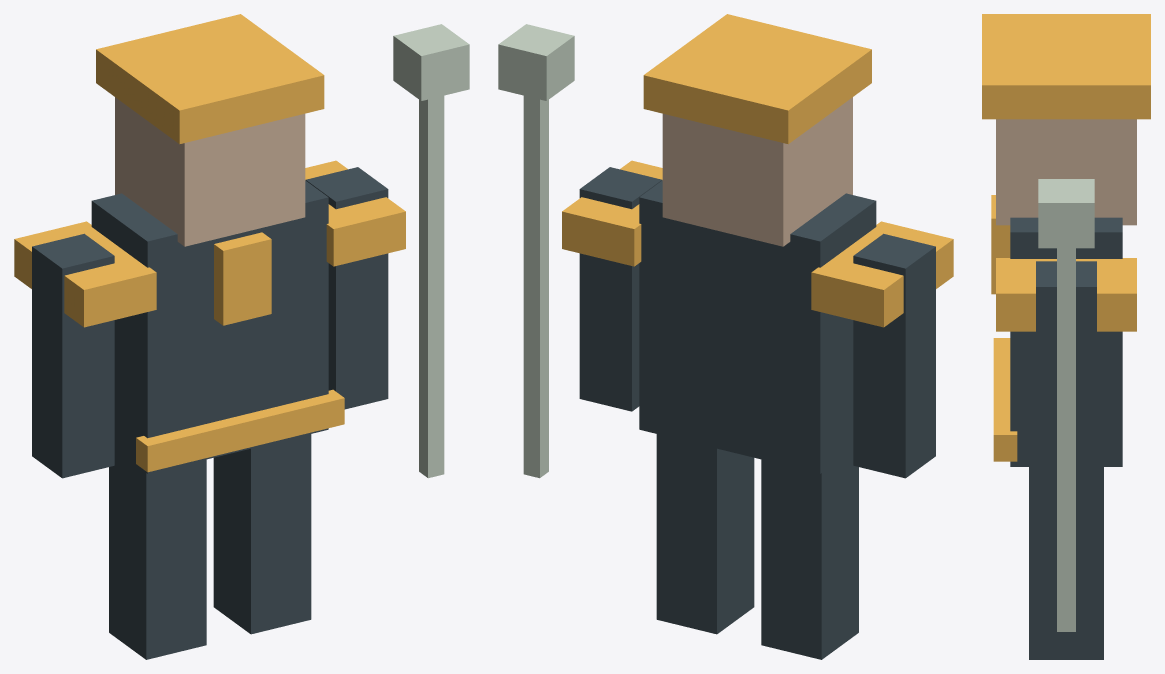
The model's file is 14_kael_holloway_ranger_near_observation.glb.
The picture shows the model from 3 angles, left to right: view 1: azimuth 30°, elevation 25°; view 2: azimuth 150°, elevation 25°; view 3: azimuth 270°, elevation 25°; orthographic projection.
Visible parts, largest first — view 1: Kael Holloway, Ranger near Observation; view 2: Kael Holloway, Ranger near Observation; view 3: Kael Holloway, Ranger near Observation.
Part boxes in pixels (x1=…): Kael Holloway, Ranger near Observation: x1=14, y1=14, x2=469, y2=659; Kael Holloway, Ranger near Observation: x1=498, y1=14, x2=953, y2=659; Kael Holloway, Ranger near Observation: x1=982, y1=14, x2=1150, y2=659.
Size of the model in its own units: 1.05 by 1.39 by 0.3732.
